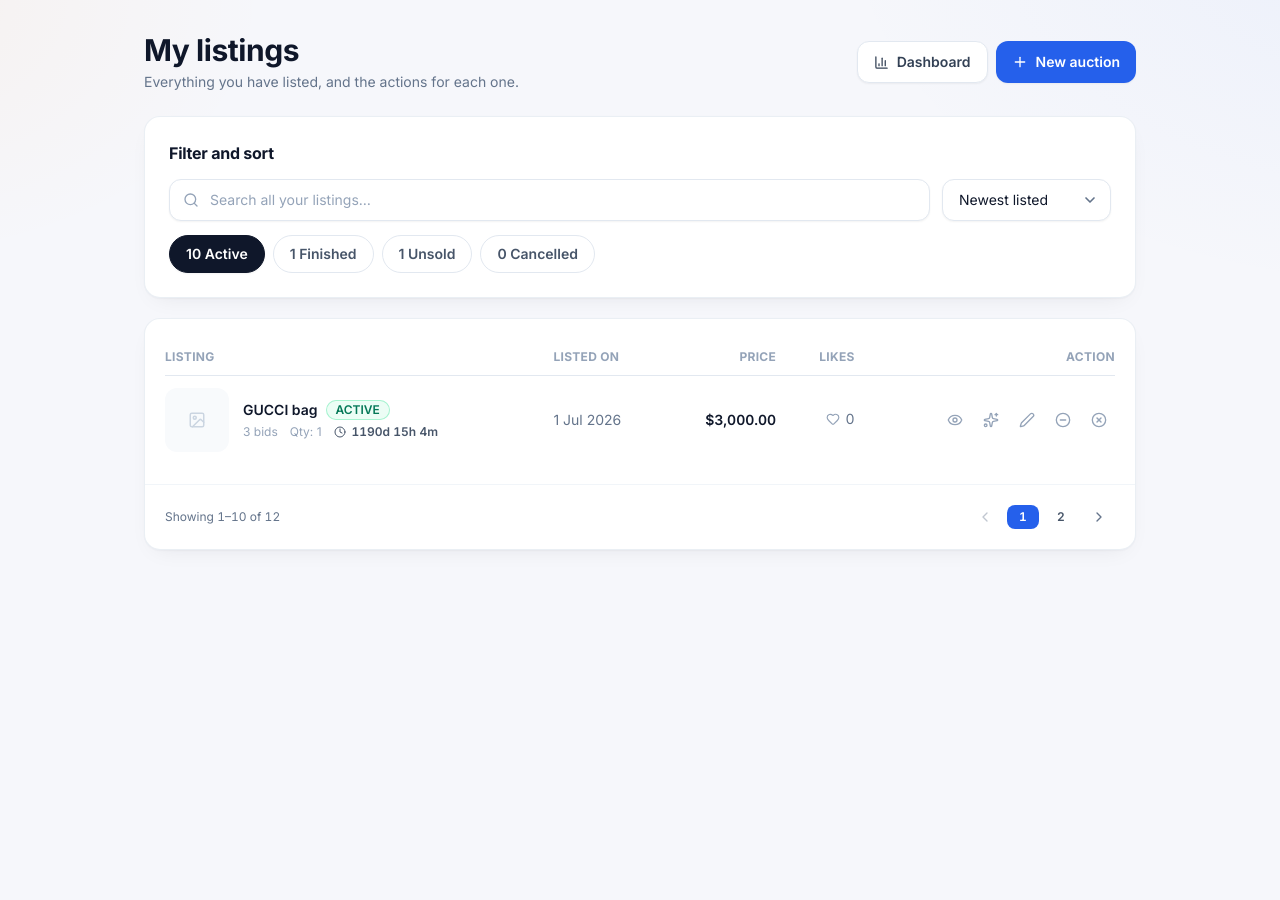
Scenario: cancelling records a reason › will not cancel until the seller says why
This screenshot has width=1280, height=900.
Click the button named "cancel this auction" at (1099, 420), box [1083,404,1115,436]
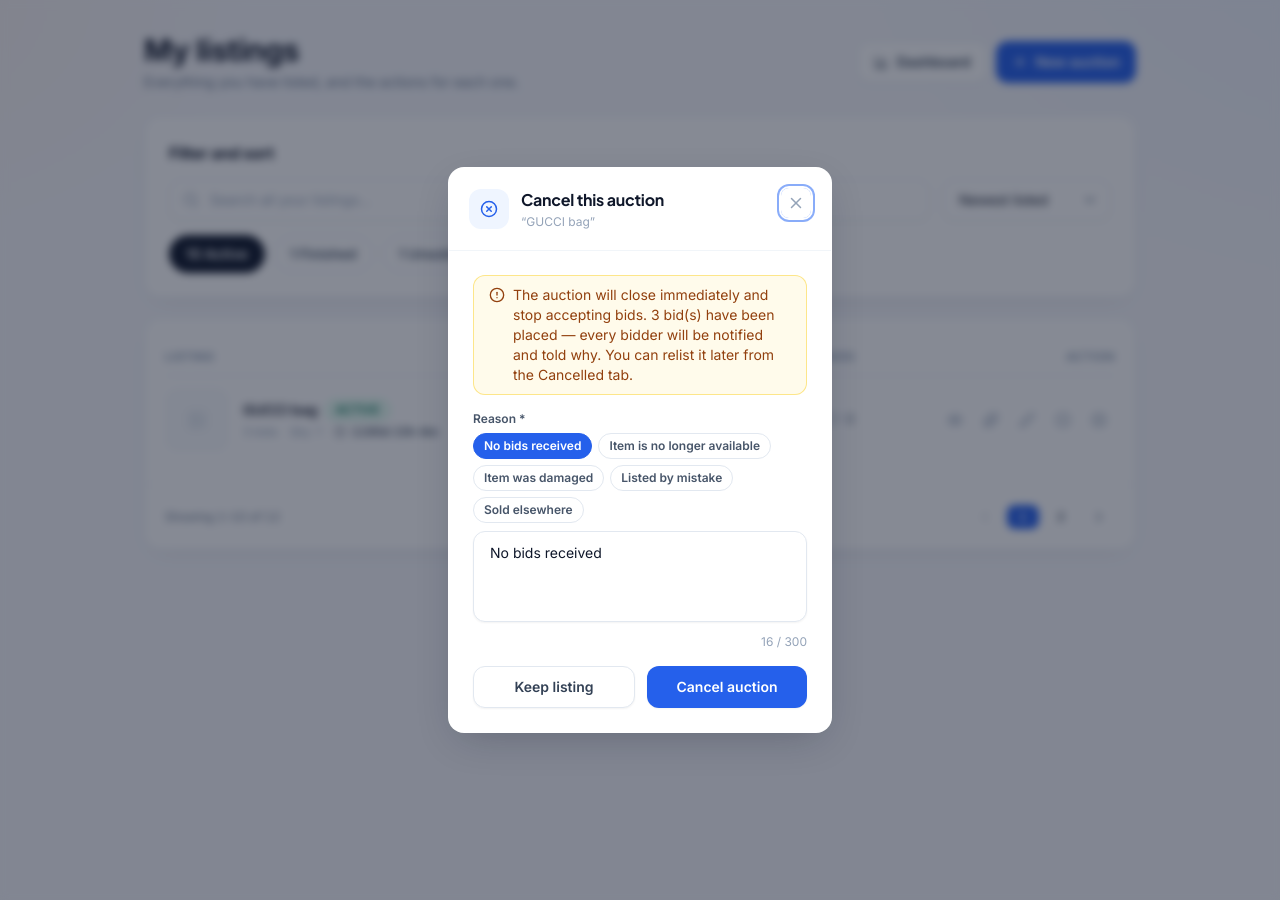
Clear the text box labelled "Reason *" at (640, 577), box [473,531,807,622]
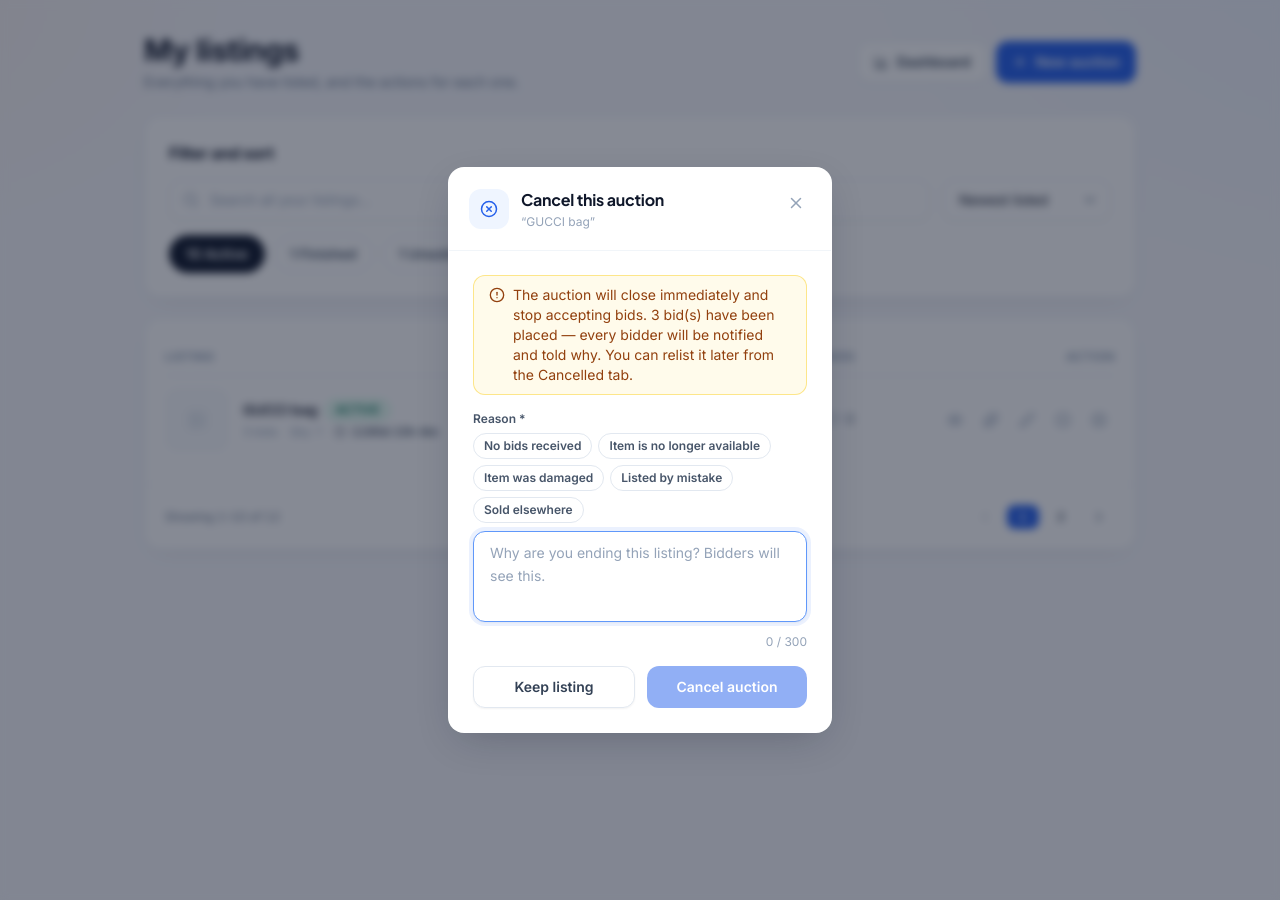
Check: the button "Cancel auction" is disabled, box [647,666,807,708]
